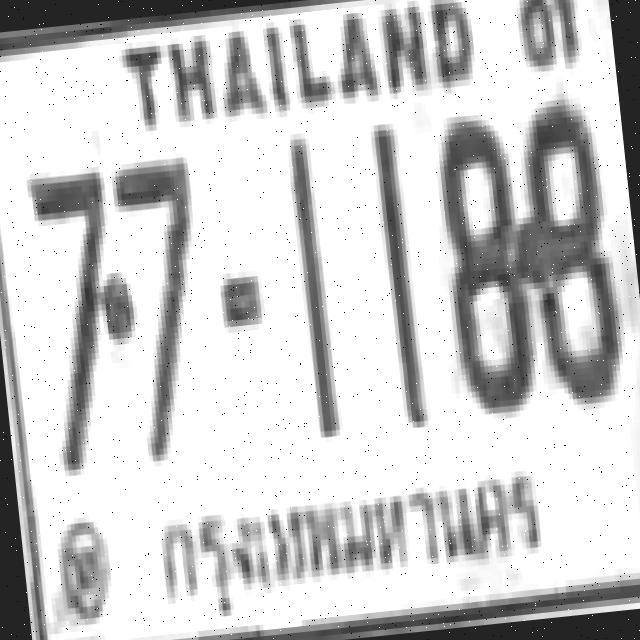1: (365, 120, 424, 426), (282, 129, 338, 435)
7: (19, 160, 135, 472), (107, 148, 215, 459)
8: (508, 90, 624, 402), (428, 111, 536, 410)
Bangkok: (144, 451, 552, 605)
